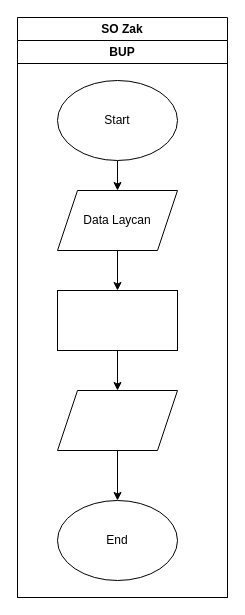
Image size: 245x615. Some labels were removed from this diagram. Each missing label, with the centre of its shape:
Data Gate In: the point at 117,420
Gate IN by No SPJ: the point at 117,320
